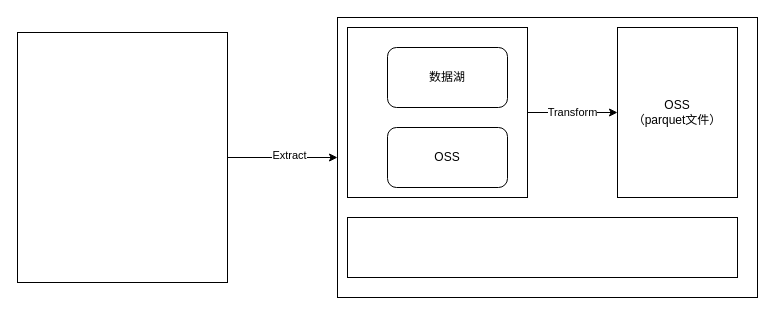
This 775x315 diagram has some shape labels left out. The centre of each missing label's shape, as x and y in pixels:
EMR: the point at 542,247
SQL Server: the point at 122,157
